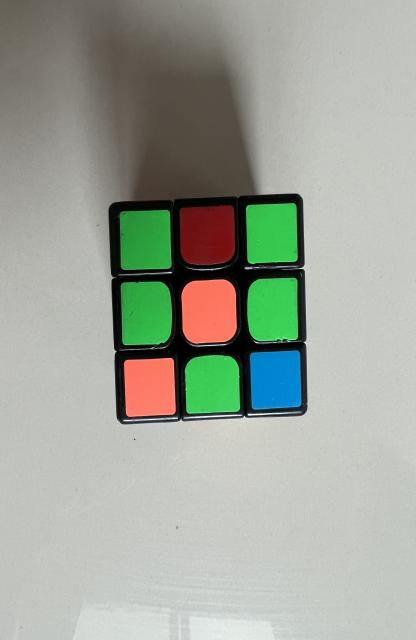Blue: (250, 350, 301, 410)
Green: (120, 281, 172, 345), (185, 355, 240, 414), (246, 202, 298, 264), (247, 278, 298, 341), (119, 210, 171, 270)
Orange: (181, 279, 237, 344), (124, 358, 176, 418)
Red: (180, 205, 235, 265)
